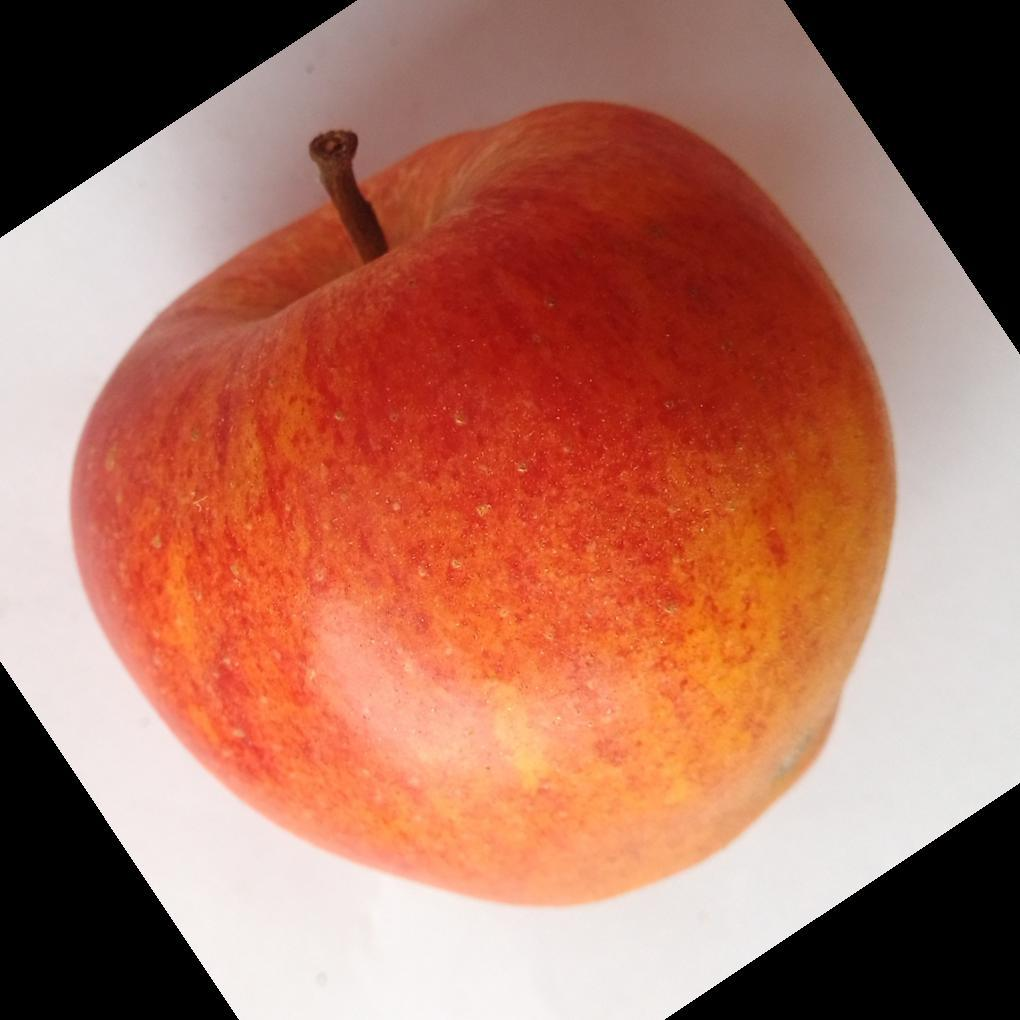FreshGuava: (67, 100, 900, 914)
